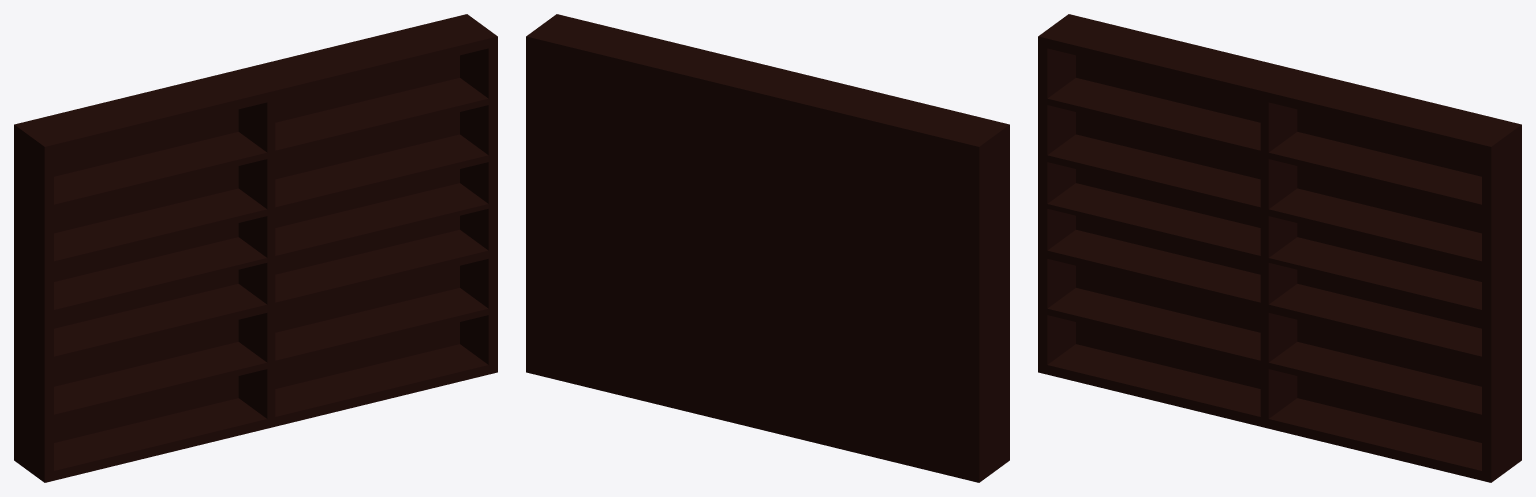
File: Bookshelf.obj
The picture shows the model from 3 angles, left to right: view 1: azimuth 30°, elevation 25°; view 2: azimuth 150°, elevation 25°; view 3: azimuth 330°, elevation 25°; orthographic projection.
Parts seen in each view (by area): view 1: Bookshelf_Cube.001; view 2: Bookshelf_Cube.001; view 3: Bookshelf_Cube.001.
Boxes of the visible parts, left/top/right/bottom form: Bookshelf_Cube.001: left=14, top=14, right=497, bottom=482; Bookshelf_Cube.001: left=526, top=14, right=1009, bottom=482; Bookshelf_Cube.001: left=1038, top=14, right=1521, bottom=482.
Bounding box in the file's own units: 17.07 × 12.1 × 2.
